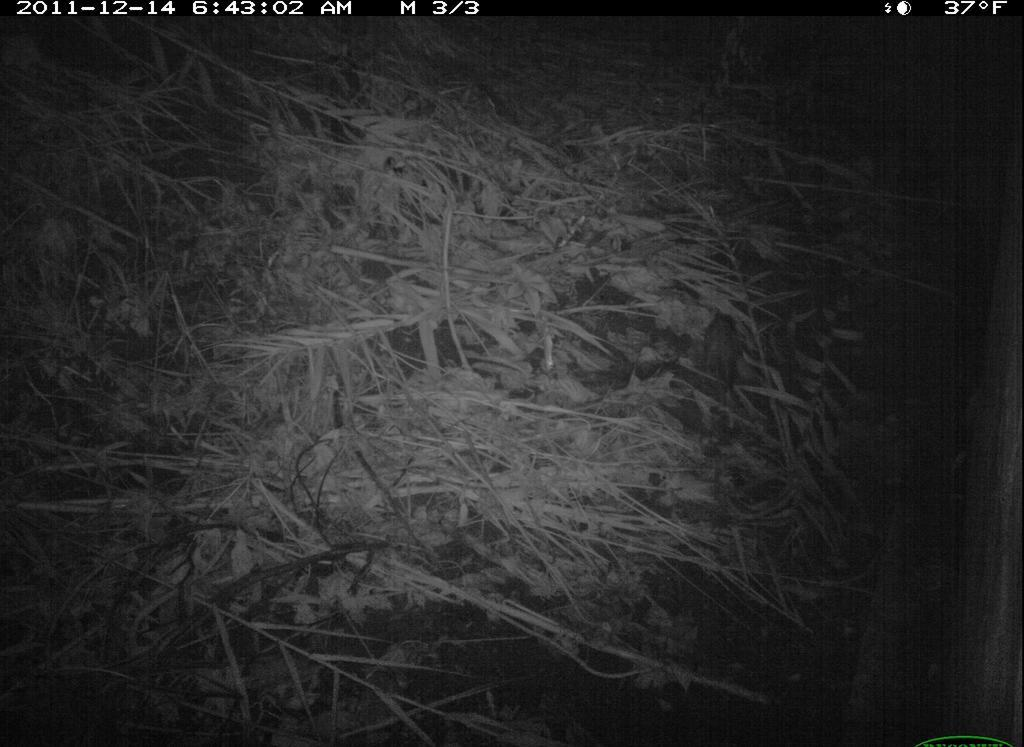opossum: (692, 286, 754, 416)
